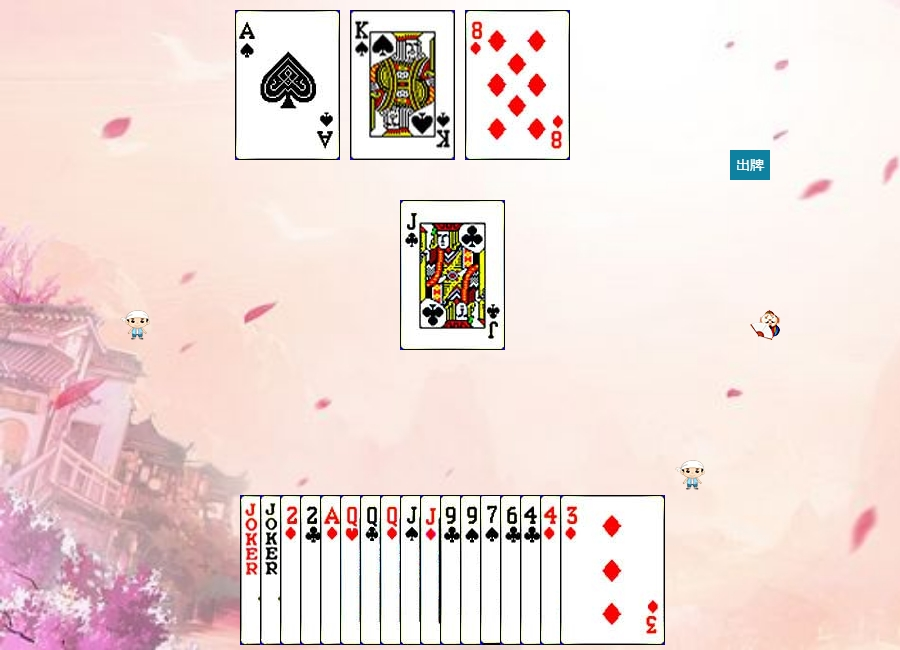11~1: (420, 495, 525, 645)
11~2: (400, 200, 505, 350)
11~4: (400, 495, 505, 645)
12~1: (380, 495, 485, 645)
12~2: (360, 495, 465, 645)
12~3: (340, 495, 445, 645)
13~4: (350, 10, 455, 160)
14~1: (320, 495, 425, 645)
14~4: (235, 10, 340, 160)
15~1: (280, 495, 385, 645)
15~2: (300, 495, 405, 645)
17~3: (260, 495, 365, 645)
18~4: (240, 495, 345, 645)
3~1: (560, 495, 665, 645)
4~1: (540, 495, 645, 645)
4~2: (520, 495, 625, 645)
6~2: (500, 495, 605, 645)
7~4: (480, 495, 585, 645)
8~1: (465, 10, 570, 160)
9~2: (440, 495, 545, 645)
9~4: (460, 495, 565, 645)
